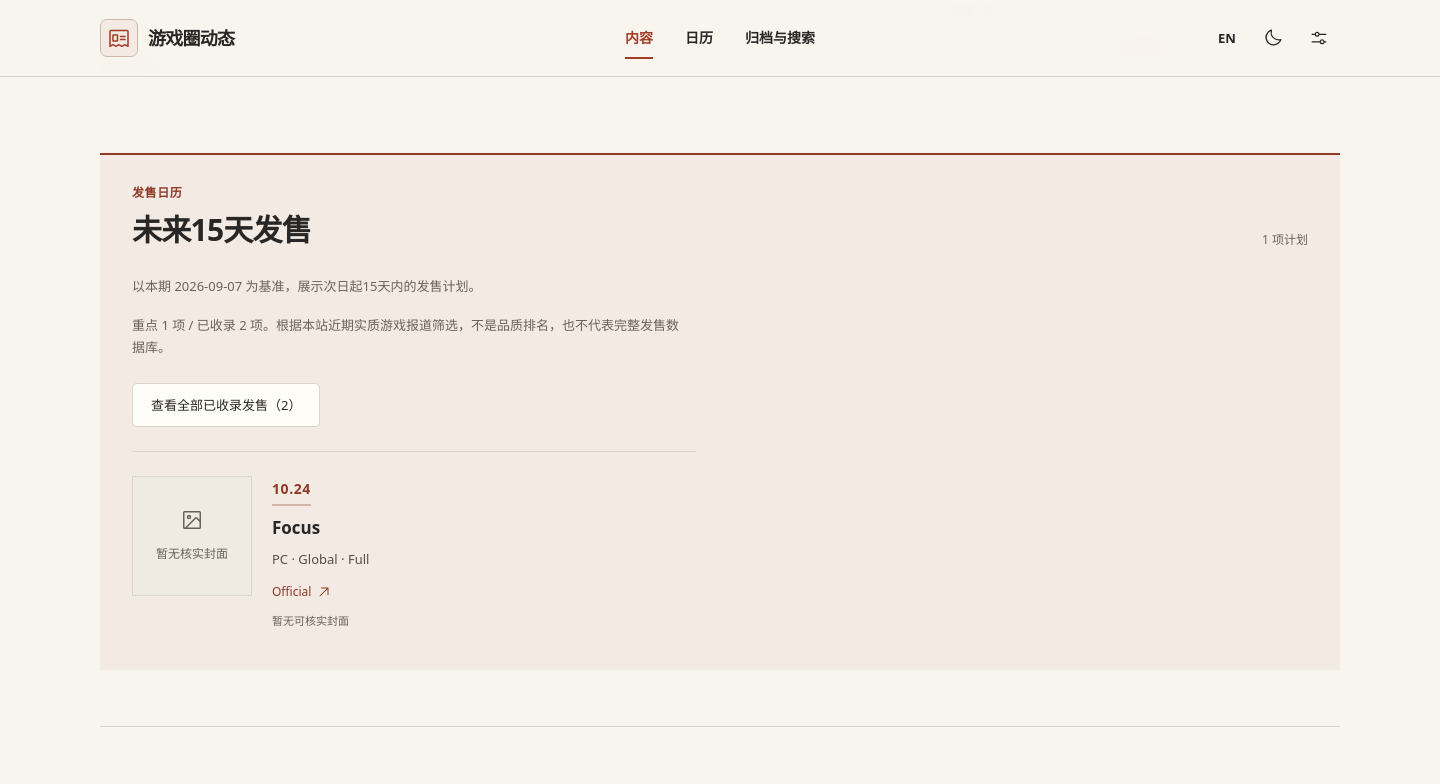
calendar focus › filters the real reading calendar and retains all rows for historical editions
(page scrolled)
Expected: the number of elements with class "r-calendar-item" is 1, [132, 451, 696, 654]
Click the button "查看全部已收录发售（2）" at coordinates (226, 405), box [132, 383, 320, 427]
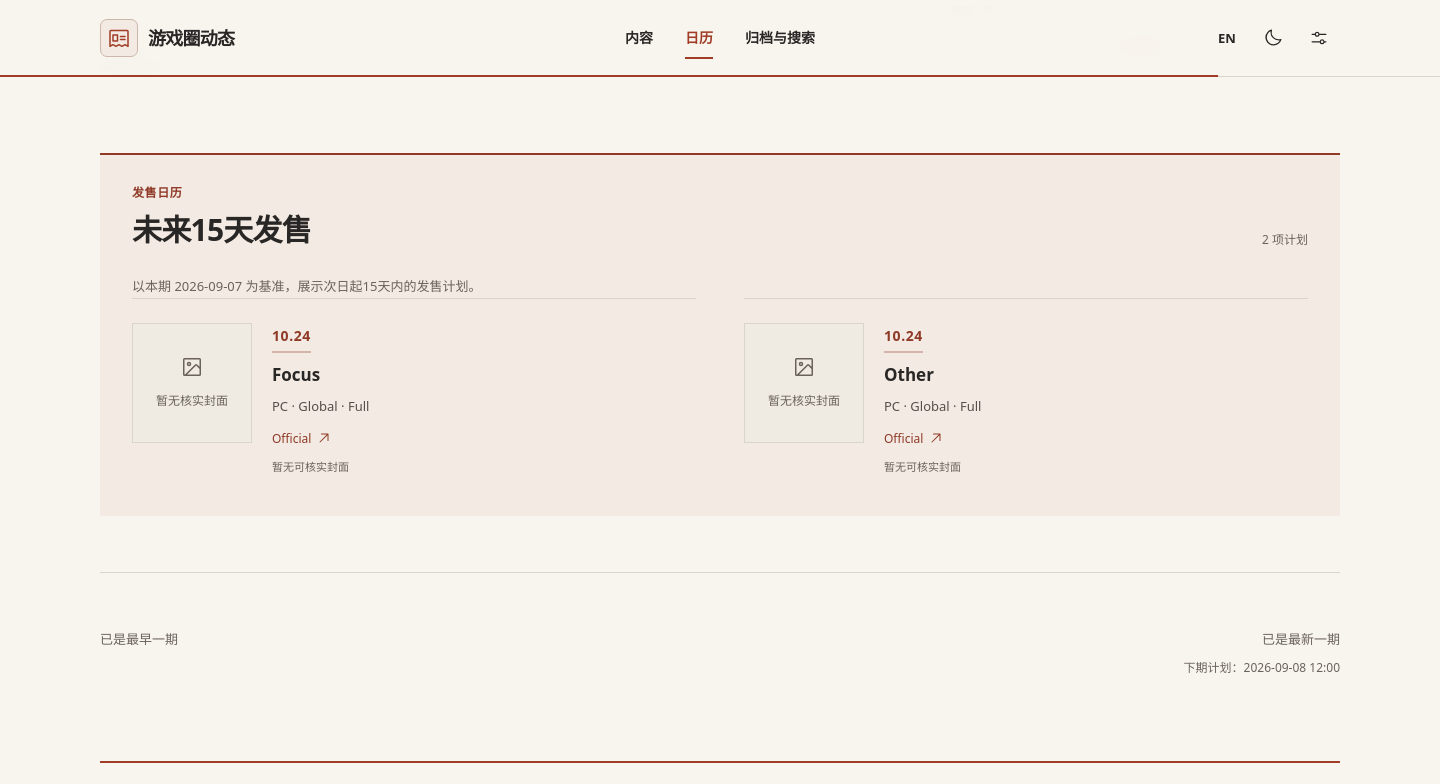
Result: the number of elements with class "r-calendar-item" is 2 at [132, 298, 696, 500]; [744, 298, 1308, 500]
Result: the element with class "calendar-focus-control" is gone
